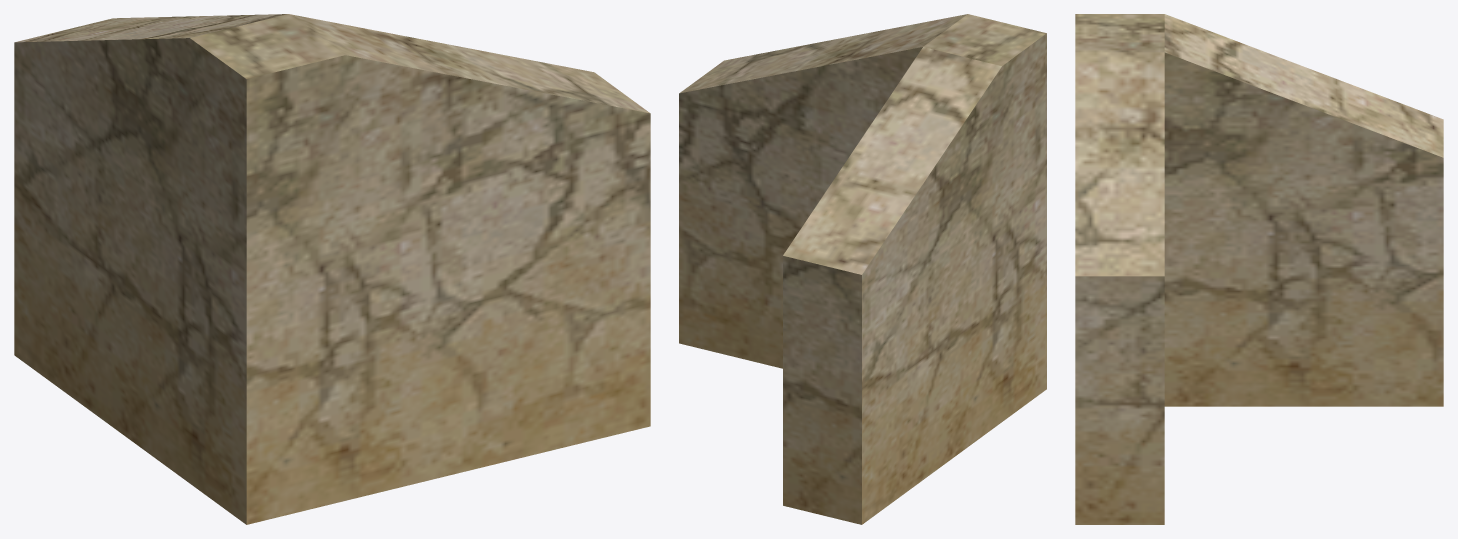
File: Environment - Prop - Stone Wall 01 - PMWallStn6_C.glb
3 views of the same model, side by side, from view 1: azimuth 30°, elevation 25°; view 2: azimuth 150°, elevation 25°; view 3: azimuth 270°, elevation 25° (orthographic). The views are drawn at different scales.
Visible parts, largest first — view 1: PMWALLSTN6_C; view 2: PMWALLSTN6_C; view 3: PMWALLSTN6_C.
Part boxes in pixels (x1,y1,x2,y2): PMWALLSTN6_C: (14, 14, 650, 524); PMWALLSTN6_C: (679, 14, 1046, 524); PMWALLSTN6_C: (1075, 14, 1443, 524).
Bounding box in the file's own units: 8.85 × 9.32 × 8.79.
Materials: 1 (1 with a texture image).
